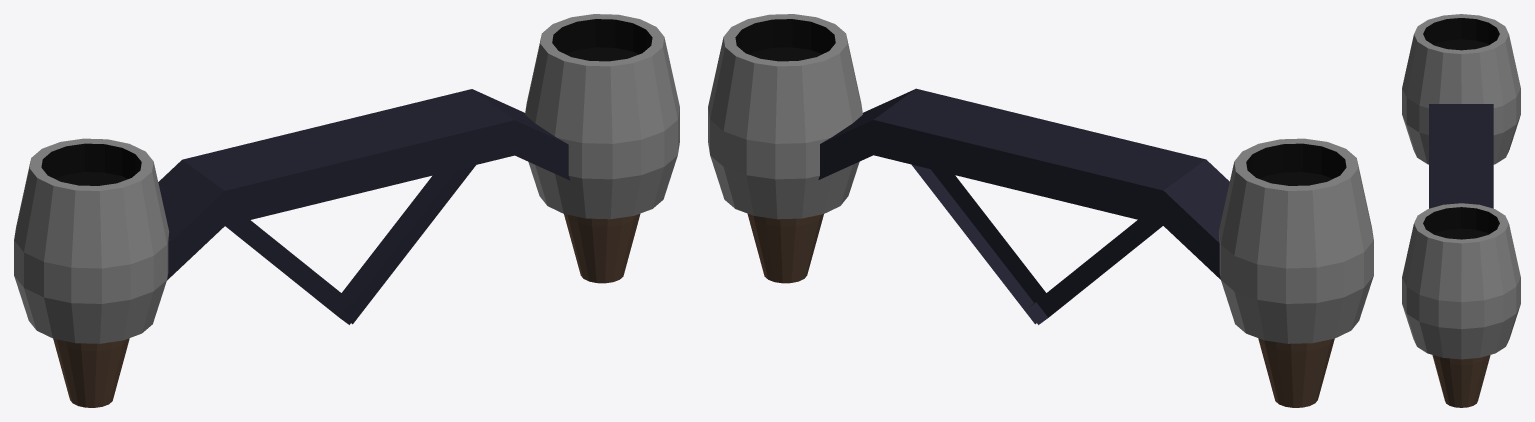
File: bogie_rocket.obj
The picture shows the model from 3 angles, left to right: view 1: azimuth 30°, elevation 25°; view 2: azimuth 150°, elevation 25°; view 3: azimuth 270°, elevation 25°; orthographic projection. The views are drawn at different scales.
Parts seen in each view (by area): view 1: 柱体_柱体.004, 立方体.001_立方体.006, 立方体; view 2: 柱体_柱体.004, 立方体.001_立方体.006, 立方体; view 3: 柱体_柱体.004, 立方体.001_立方体.006.
Boxes of the visible parts, box(x1,y1,x2,y2) form: 柱体_柱体.004: box(14, 14, 679, 407); 立方体.001_立方体.006: box(158, 89, 570, 280); 立方体: box(225, 165, 475, 324); 柱体_柱体.004: box(708, 14, 1373, 407); 立方体.001_立方体.006: box(818, 88, 1229, 279); 立方体: box(912, 164, 1162, 324); 柱体_柱体.004: box(1402, 14, 1520, 407); 立方体.001_立方体.006: box(1429, 104, 1493, 208).
Size of the model in its own units: 9.54 by 3.3 by 2.
